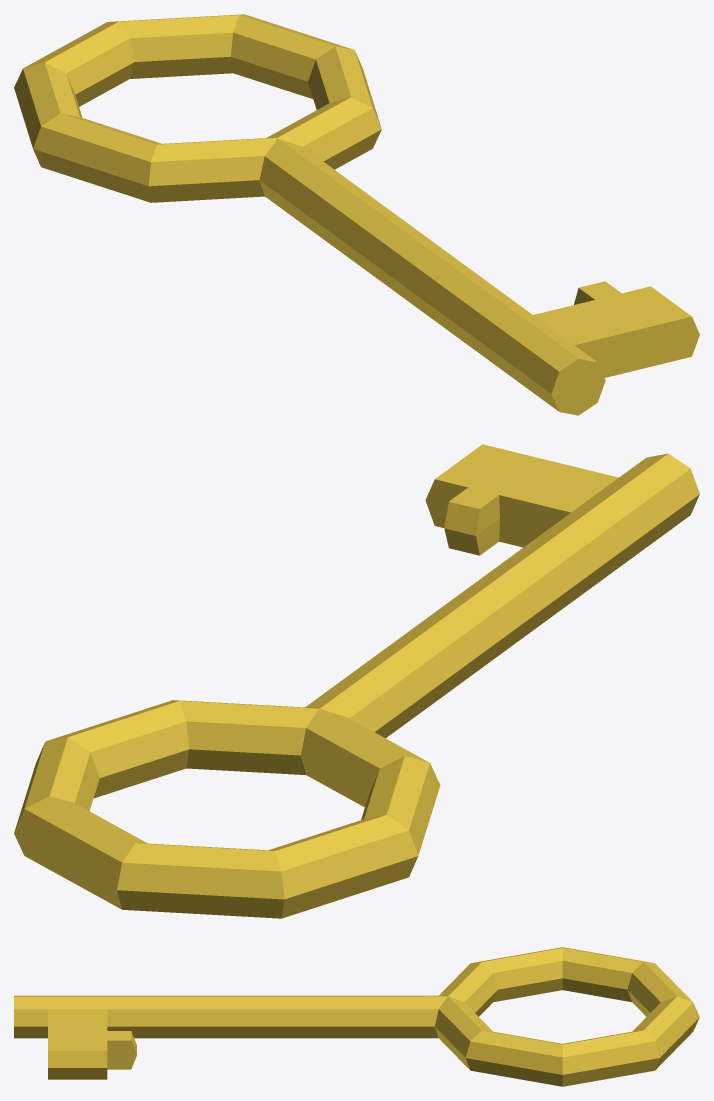
File: Key.fbx
The picture shows the model from 3 angles, top to bottom: view 1: azimuth 30°, elevation 25°; view 2: azimuth 150°, elevation 25°; view 3: azimuth 270°, elevation 25°; orthographic projection. The views are drawn at different scales.
Visible parts, largest first — view 1: pCylinder2; view 2: pCylinder2; view 3: pCylinder2.
Boxes of the visible parts, <box> form: pCylinder2: <box>14,14,699,415</box>; pCylinder2: <box>14,444,699,918</box>; pCylinder2: <box>14,947,699,1086</box>.
Bounding box in the file's own units: 0.0173 × 0.00288 × 0.0432.
